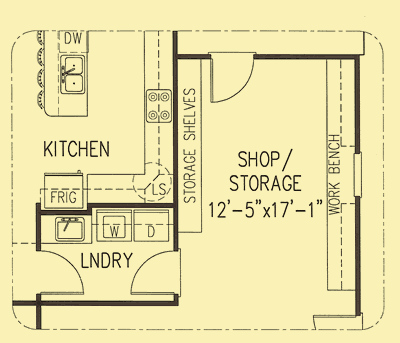laundry room has washer and dryer: (36, 204, 180, 308)
this kitchen has a twin sink with cooking range: (14, 29, 175, 204)
